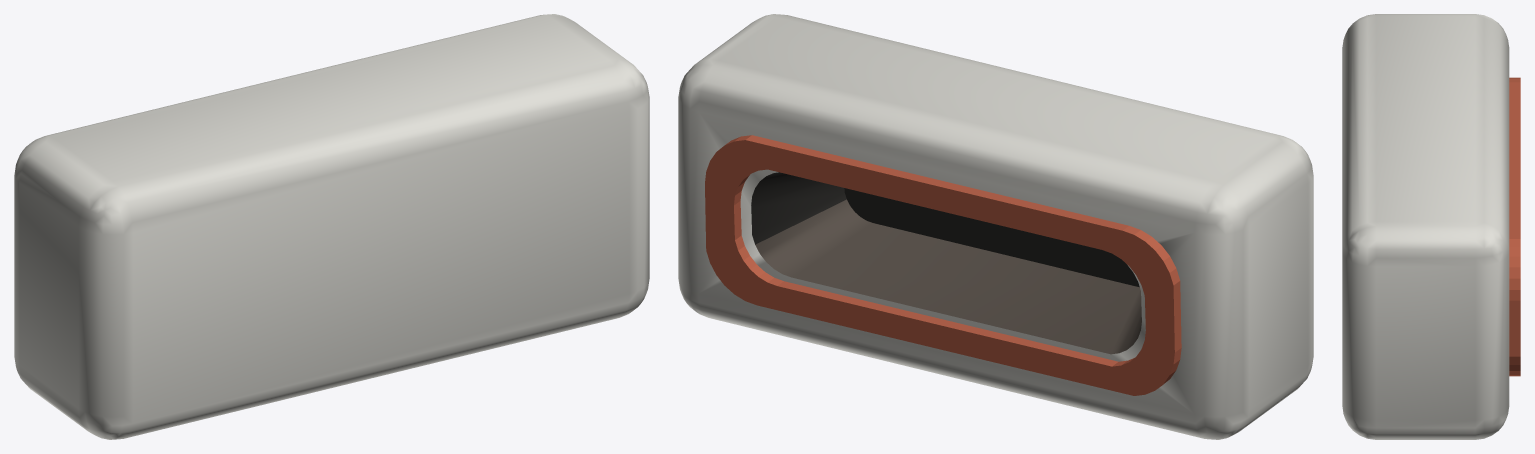
File: stage1-submission-dock-local-trial-v006.glb
3 renders of one model, left to right at view 1: azimuth 30°, elevation 25°; view 2: azimuth 150°, elevation 25°; view 3: azimuth 270°, elevation 25°, orthographic. The views are drawn at different scales.
Visible parts, largest first — view 1: Dock_Housing_Cavity; view 2: Dock_Housing_Cavity, Dock_Intake_Rim; view 3: Dock_Housing_Cavity, Dock_Intake_Rim.
Boxes of the visible parts, x1,y1,x2,y2 form: Dock_Housing_Cavity: (14, 14, 649, 439); Dock_Housing_Cavity: (678, 14, 1313, 439); Dock_Intake_Rim: (705, 135, 1181, 395); Dock_Housing_Cavity: (1342, 14, 1509, 439); Dock_Intake_Rim: (1509, 77, 1520, 376).
Bounding box in the file's own units: 1.95 × 0.84 × 0.63.
